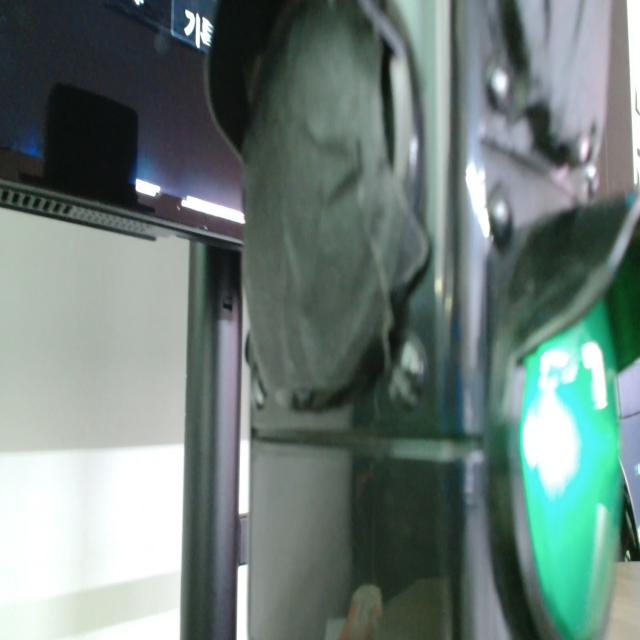green_light: (521, 304, 621, 639)
